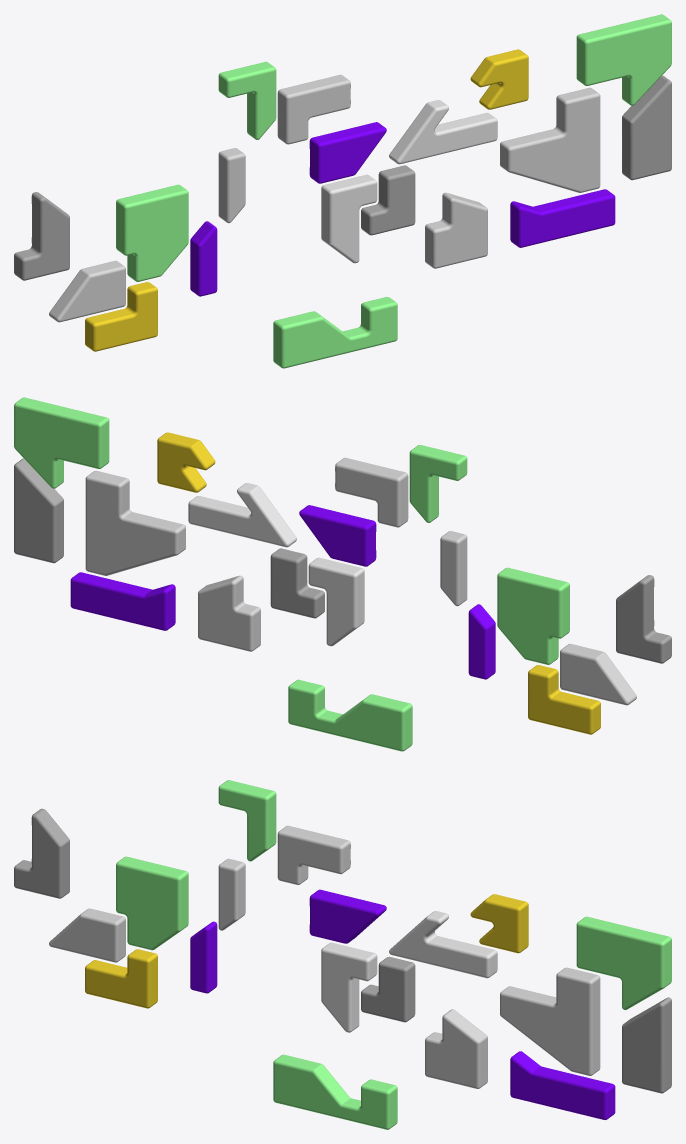
Rendered from keppa-spread.glb.
3 views of the same model, one above another, from view 1: azimuth 30°, elevation 25°; view 2: azimuth 150°, elevation 25°; view 3: azimuth 330°, elevation 25° (orthographic).
Visible parts, largest first — view 1: Object_61, Object_60, Object_38, Object_56, Object_59, Object_57, Object_52, Object_49, Object_46, Object_43, Object_45, Object_44 (+7 smaller); view 2: Object_61, Object_60, Object_38, Object_56, Object_59, Object_57, Object_52, Object_49, Object_46, Object_43, Object_45, Object_44 (+7 smaller); view 3: Object_61, Object_60, Object_38, Object_56, Object_57, Object_59, Object_49, Object_52, Object_46, Object_43, Object_45, Object_44 (+7 smaller).
Part boxes in pixels (x1,y1,x2,y2): Object_61: (500, 87, 600, 192); Object_60: (576, 14, 671, 105); Object_38: (116, 184, 188, 281); Object_56: (273, 297, 397, 368); Object_59: (622, 75, 671, 180); Object_57: (510, 189, 615, 247); Object_52: (389, 100, 497, 164); Object_49: (425, 192, 487, 268); Object_46: (321, 174, 377, 263); Object_43: (14, 192, 69, 280); Object_45: (277, 74, 350, 144); Object_44: (85, 282, 157, 351); Object_61: (85, 470, 185, 575); Object_60: (14, 397, 109, 488); Object_38: (497, 567, 569, 664); Object_56: (288, 679, 412, 751); Object_59: (14, 458, 63, 563); Object_57: (70, 572, 175, 630); Object_52: (188, 483, 296, 547); Object_49: (198, 575, 260, 651); Object_46: (308, 557, 364, 646); Object_43: (616, 575, 671, 663); Object_45: (335, 457, 408, 527); Object_44: (528, 665, 600, 734); Object_61: (500, 967, 600, 1075); Object_60: (576, 916, 671, 1010); Object_38: (116, 856, 188, 950); Object_56: (273, 1054, 397, 1129); Object_57: (510, 1051, 615, 1119); Object_59: (622, 997, 671, 1093); Object_49: (425, 1009, 487, 1088); Object_52: (389, 911, 497, 978); Object_46: (321, 942, 377, 1032); Object_43: (14, 808, 69, 898); Object_45: (277, 825, 350, 884); Object_44: (85, 949, 157, 1008).
Bounding box in the file's own units: 12.33 × 5.5 × 0.3353.
